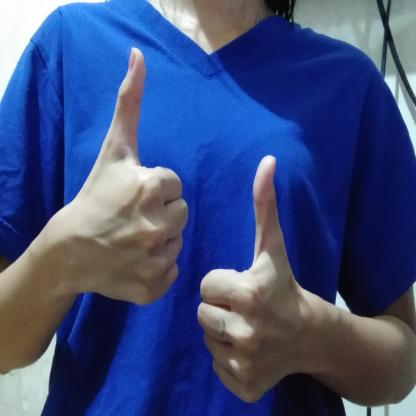which: (72, 43, 308, 406)
